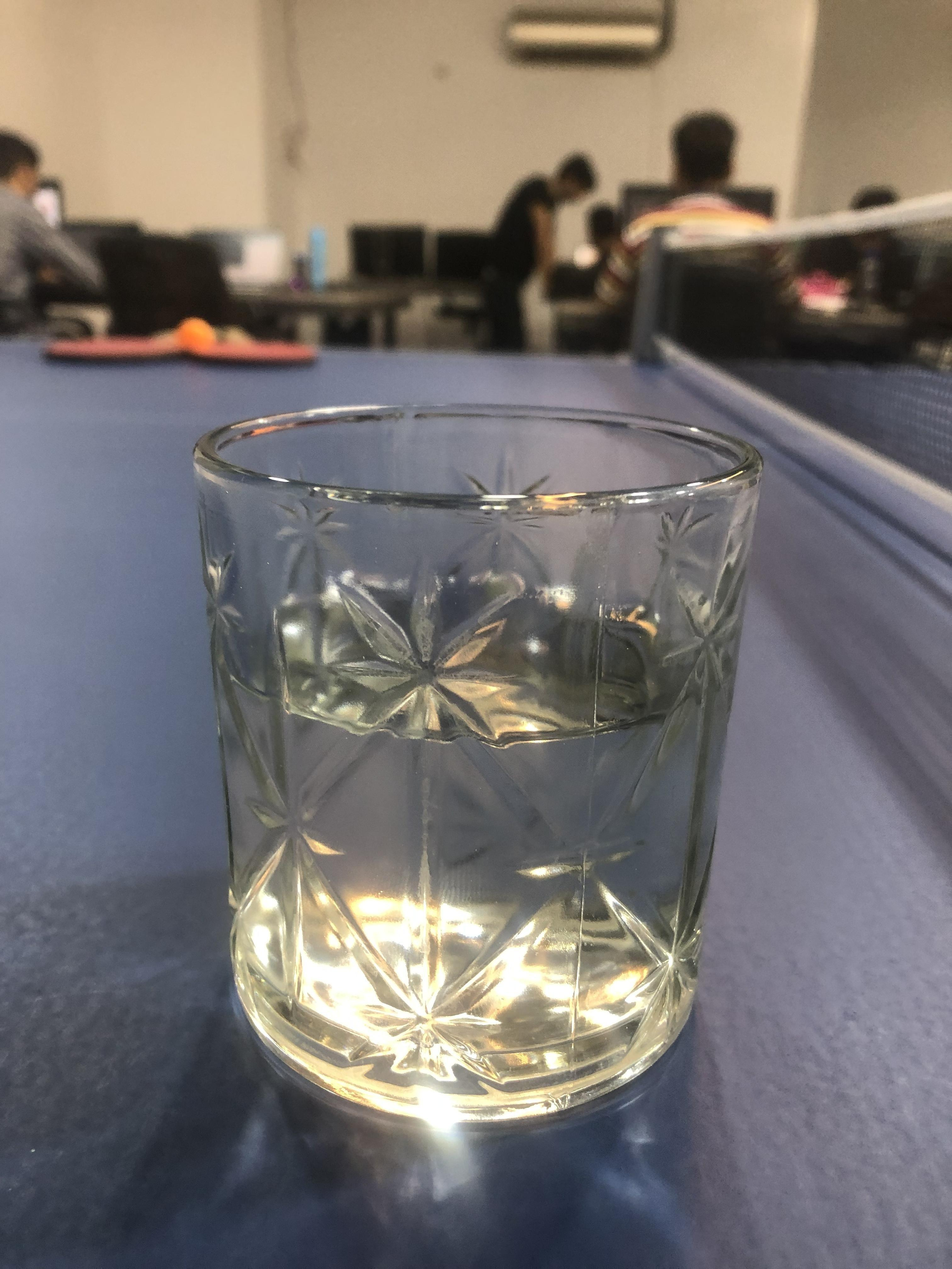glass-normal: (184, 389, 783, 1154)
